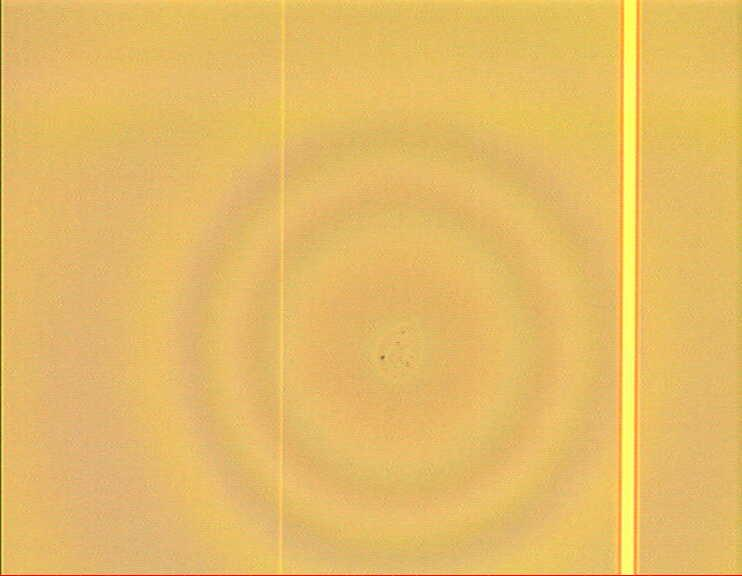PIQ PARTICLE: (378, 327, 418, 373)
